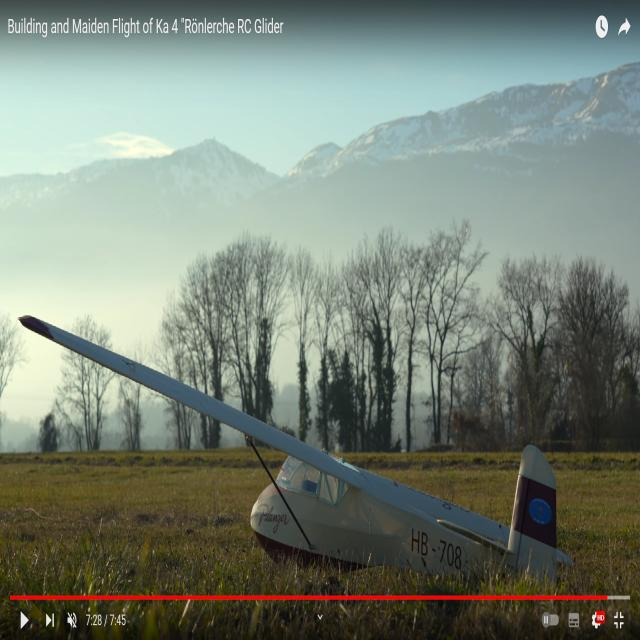iha: (15, 310, 569, 583)
